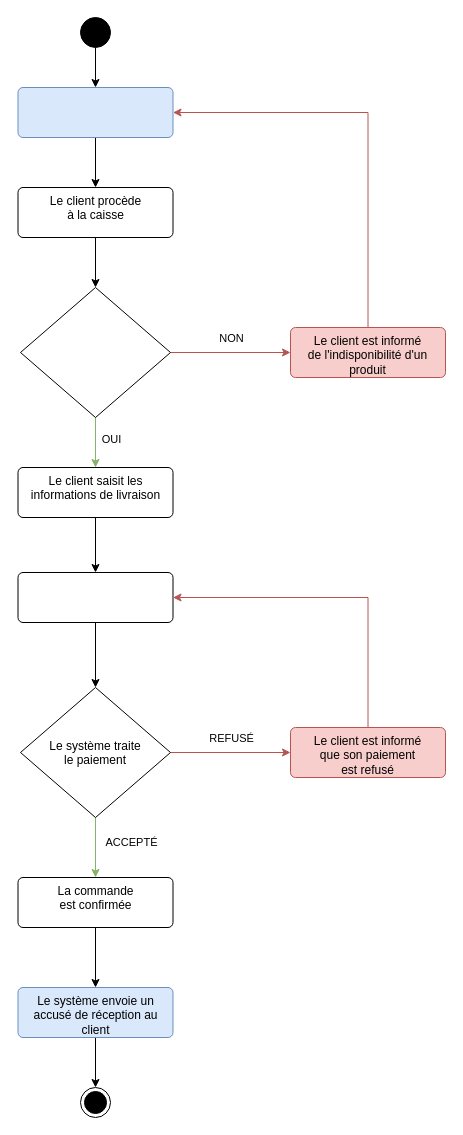
Some shapes in this 463 by 1135 pixel diagram are drawn without their labels. The shapes that lost their labels are listed below. From the top down, each one's centre as x and y in pixels, then its label:
the point at 95,112: Le client sélectionne des articles et les ajoute au panier.
the point at 95,352: Le système vérifie la disponibilité des articles
the point at 95,597: Le client saisit les informations de paiement
